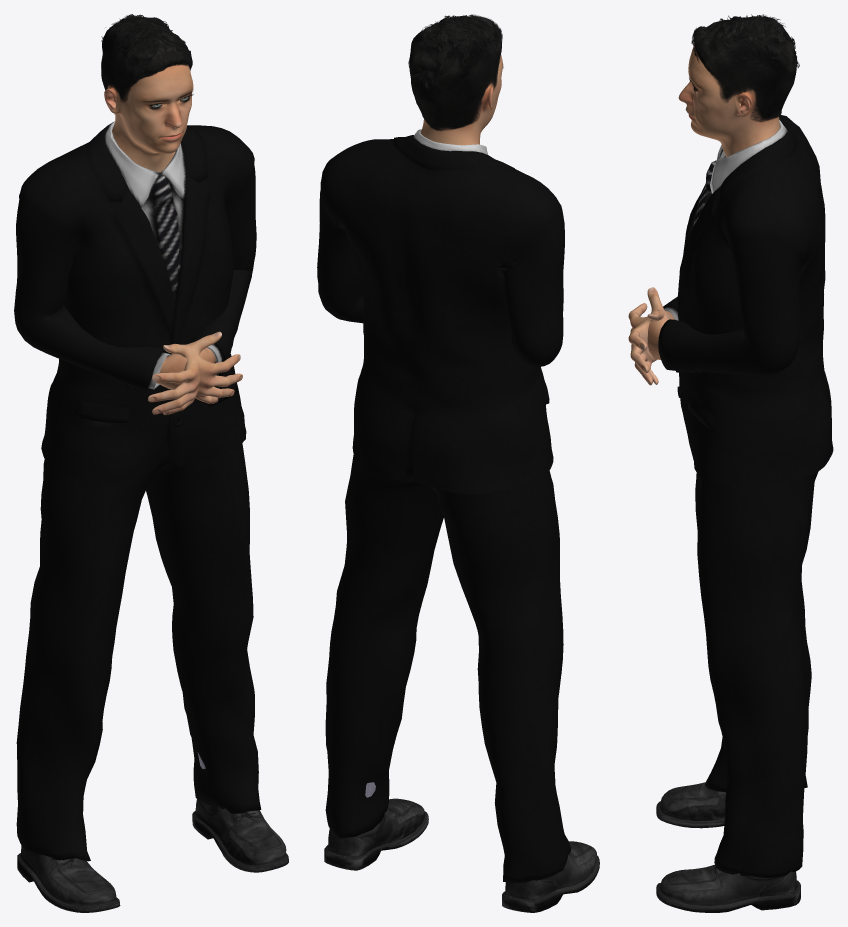
Rendered from officiant_realistic.glb.
3 views of the same model, side by side, from view 1: azimuth 30°, elevation 25°; view 2: azimuth 150°, elevation 25°; view 3: azimuth 270°, elevation 25° (orthographic).
Parts seen in each view (by area): view 1: officiant.male_elegantsuit01, officiant.body, officiant.shoes04, officiant.short01; view 2: officiant.male_elegantsuit01, officiant.short01, officiant.shoes04, officiant.body; view 3: officiant.male_elegantsuit01, officiant.shoes04, officiant.short01, officiant.body.
Part boxes in pixels (left/top/right/bottom): officiant.male_elegantsuit01: left=14, top=121, right=261, bottom=861; officiant.body: left=104, top=64, right=242, bottom=415; officiant.shoes04: left=17, top=752, right=288, bottom=912; officiant.short01: left=101, top=14, right=192, bottom=114; officiant.male_elegantsuit01: left=317, top=129, right=570, bottom=883; officiant.short01: left=408, top=14, right=502, bottom=130; officiant.shoes04: left=324, top=782, right=599, bottom=912; officiant.body: left=421, top=55, right=502, bottom=145; officiant.male_elegantsuit01: left=658, top=115, right=833, bottom=878; officiant.shoes04: left=656, top=782, right=800, bottom=912; officiant.short01: left=691, top=14, right=799, bottom=122; officiant.body: left=628, top=46, right=779, bottom=385.
Size of the model in its own units: 0.5274 by 1.81 by 0.3997.
8 materials, 8 textured.
